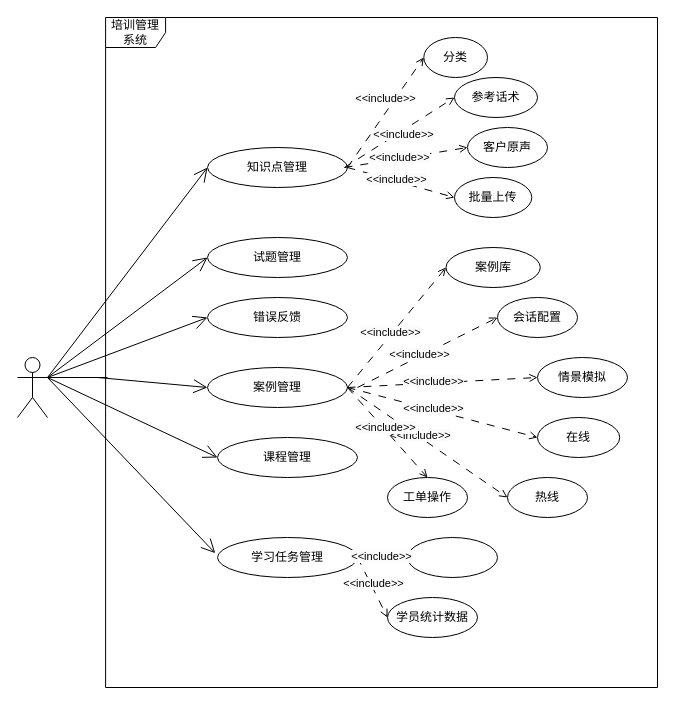
The diagram is 675 pixels wide and 705 high, and some of its shapes have lost their labels. Each missing label, with the centre of its shape:
"学习任务配置" goes at [452,557].
"讲师" goes at [32,387].
